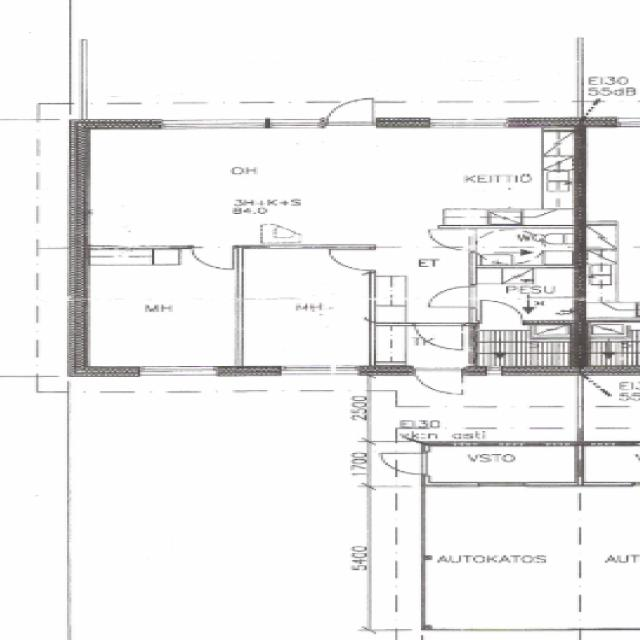door: (326, 95, 374, 129), (413, 366, 461, 400), (415, 322, 461, 349), (380, 453, 430, 475), (428, 287, 475, 308), (192, 246, 233, 270), (482, 300, 521, 325), (329, 250, 375, 270), (428, 230, 474, 250)
